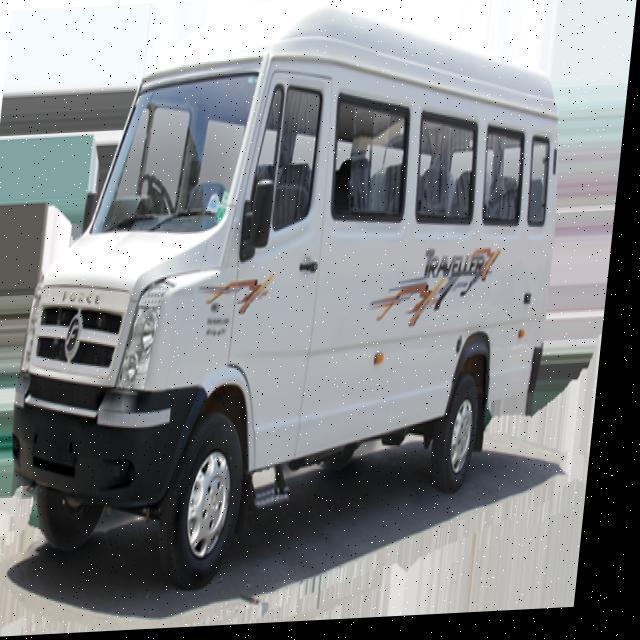van: (0, 0, 590, 605)
